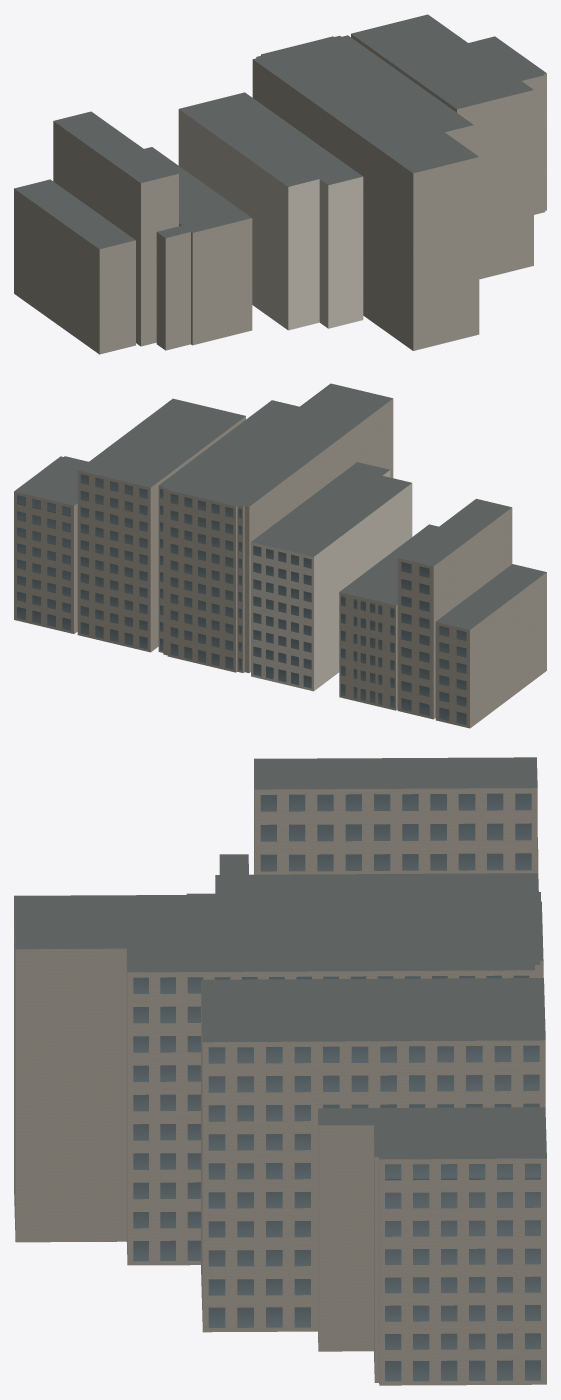
3 renders of one model, top to bottom at view 1: azimuth 30°, elevation 25°; view 2: azimuth 150°, elevation 25°; view 3: azimuth 270°, elevation 25°, orthographic. The views are drawn at different scales.
Parts seen in each view (by area): view 1: cell-e003-s001_base_tile-wall, cell-e003-s001_base_roof, cell-e003-s001_base_plaster; view 2: cell-e003-s001_base_tile-wall, cell-e003-s001_base_roof, cell-e003-s001_base_glass, cell-e003-s001_base_plaster; view 3: cell-e003-s001_base_tile-wall, cell-e003-s001_base_roof, cell-e003-s001_base_glass.
Part boxes in pixels (x1,y1,x2,y2): cell-e003-s001_base_tile-wall: (14, 34, 546, 354); cell-e003-s001_base_roof: (14, 14, 546, 249); cell-e003-s001_base_plaster: (178, 109, 363, 330); cell-e003-s001_base_tile-wall: (14, 398, 546, 728); cell-e003-s001_base_roof: (14, 383, 546, 629); cell-e003-s001_base_glass: (17, 474, 466, 725); cell-e003-s001_base_plaster: (251, 470, 412, 691); cell-e003-s001_base_tile-wall: (14, 768, 546, 1385); cell-e003-s001_base_roof: (14, 757, 546, 1159); cell-e003-s001_base_glass: (133, 793, 540, 1381).
Bounding box in the file's own units: 90.8 × 31.78 × 52.39.
Materials: 4 (3 with a texture image).
